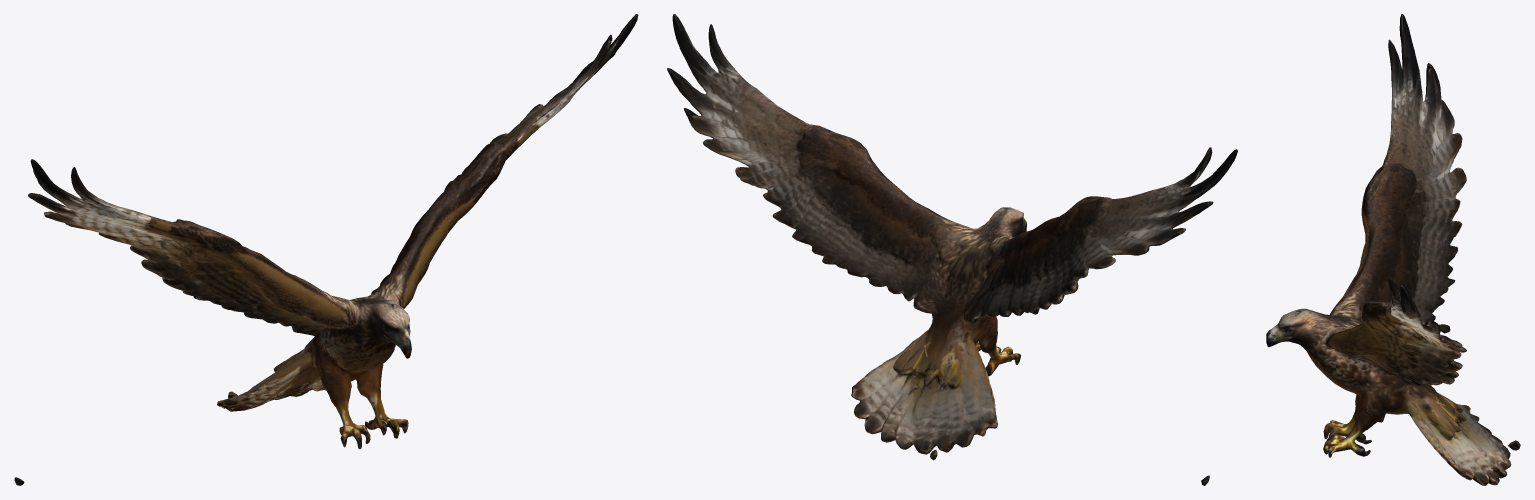
Rendered from hawk.glb.
3 views of the same model, side by side, from view 1: azimuth 30°, elevation 25°; view 2: azimuth 150°, elevation 25°; view 3: azimuth 270°, elevation 25° (orthographic). The views are drawn at different scales.
Bounding box in the file's own units: 2.01 × 1.12 × 0.803.
1 material, 1 textured.
